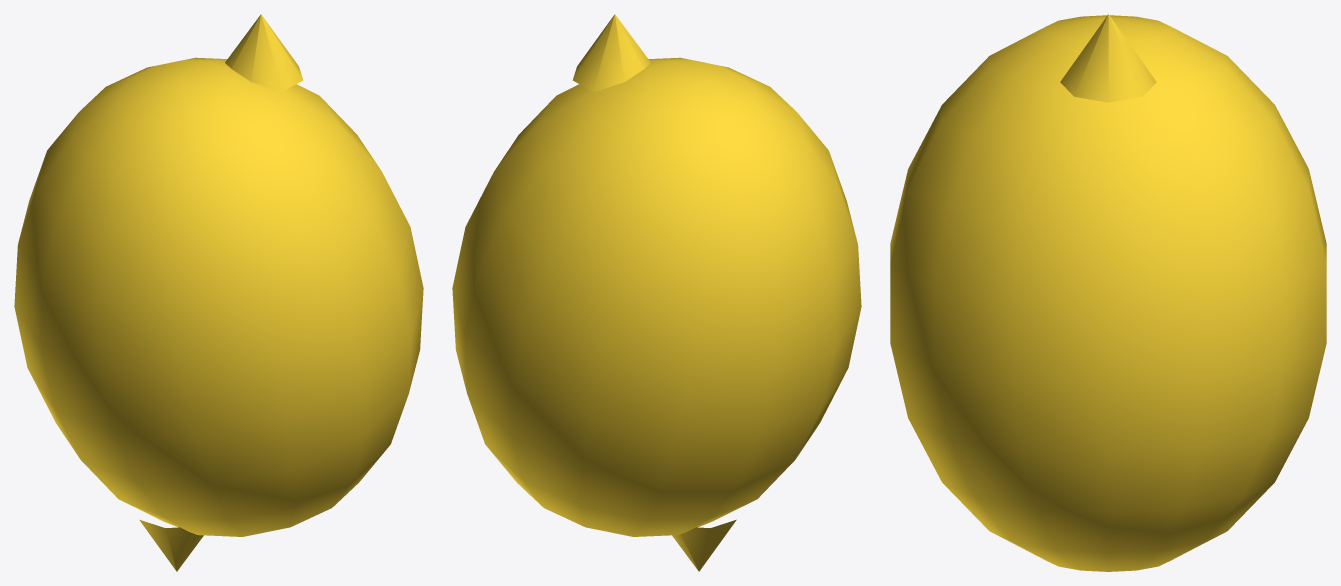
File: lemon.glb
The picture shows the model from 3 angles, left to right: view 1: azimuth 30°, elevation 25°; view 2: azimuth 150°, elevation 25°; view 3: azimuth 270°, elevation 25°; orthographic projection. The views are drawn at different scales.
Visible parts, largest first — view 1: match/lemon; view 2: match/lemon; view 3: match/lemon.
Part boxes in pixels (bbox=[...]): match/lemon: bbox=[14, 14, 423, 571]; match/lemon: bbox=[452, 14, 861, 571]; match/lemon: bbox=[890, 14, 1326, 571].
Bounding box in the file's own units: 0.6921 × 1 × 0.6644.
